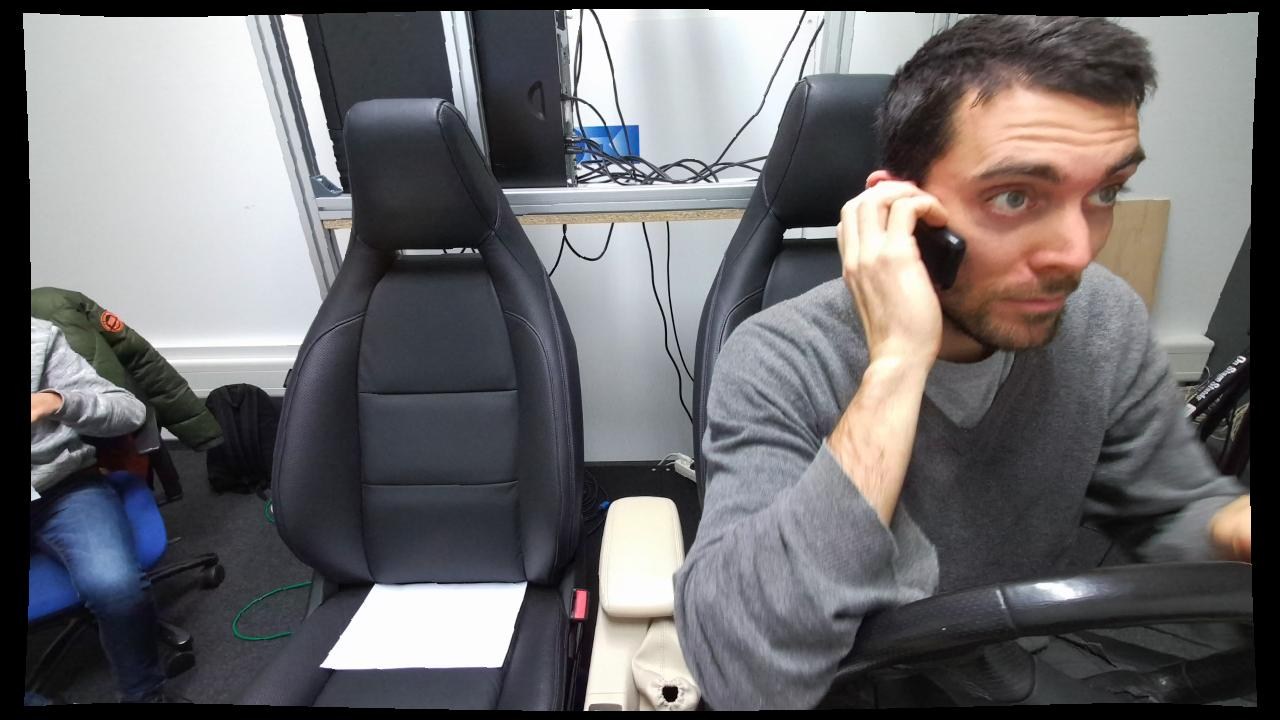PhoneUse: (895, 184, 971, 306)
SafeDriving: (677, 18, 1184, 714)
